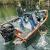fishing boat: (0, 0, 48, 46)
